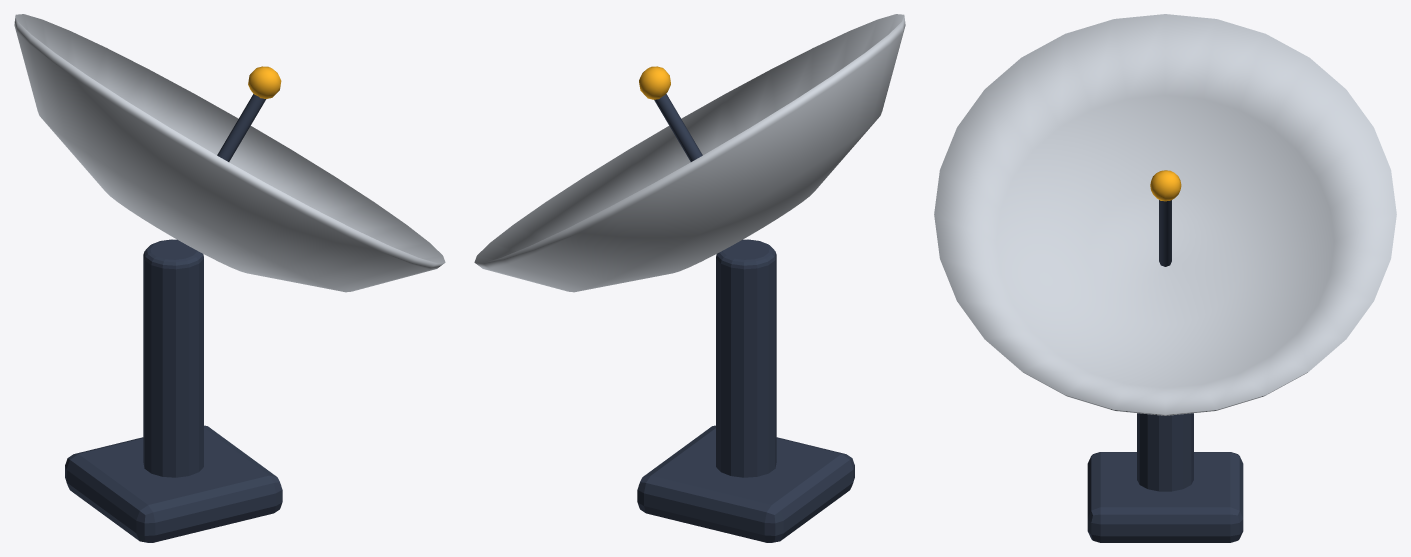
Rendered from dish.glb.
3 renders of one model, left to right at view 1: azimuth 30°, elevation 25°; view 2: azimuth 150°, elevation 25°; view 3: azimuth 270°, elevation 25°, orthographic. The views are drawn at different scales.
Visible parts, largest first — view 1: dish; view 2: dish; view 3: dish.
Part boxes in pixels (box(x1,y1,x2,y2)): dish: box(14, 14, 445, 542); dish: box(474, 14, 905, 542); dish: box(934, 14, 1396, 542).
Size of the model in its own units: 2.93 by 3.79 by 3.56.
